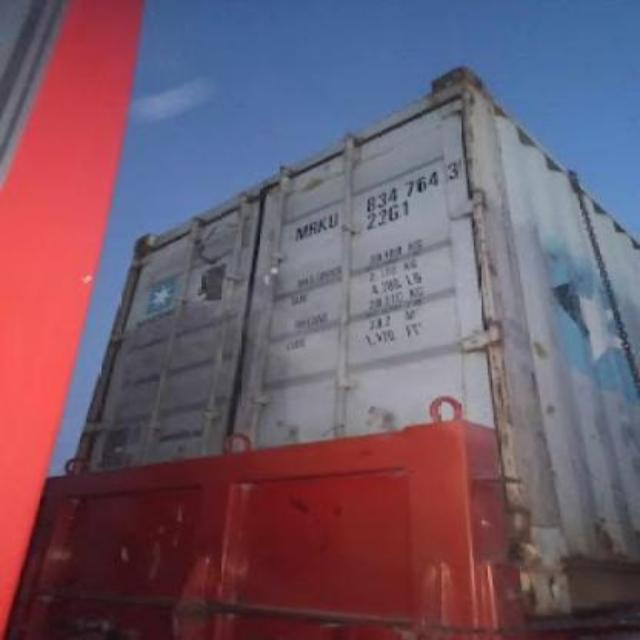3: (444, 161, 462, 179), (378, 190, 388, 206)
4: (428, 169, 440, 187), (388, 187, 400, 203)
6: (416, 175, 428, 191)
7: (404, 179, 416, 197)
8: (364, 195, 378, 211)
K: (318, 214, 330, 230)
M: (294, 223, 310, 241)
R: (308, 220, 318, 236)
U: (330, 211, 340, 229)
